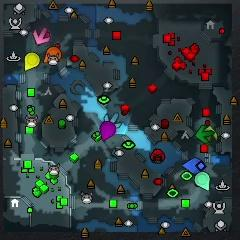p1: (183, 159, 203, 173)
p2: (196, 172, 210, 193)
p3: (100, 121, 116, 141)
p4: (24, 52, 40, 71)
p5: (44, 48, 62, 62)
x1: (33, 27, 50, 45)
x2: (203, 126, 218, 143)
x3: (104, 113, 122, 128)
x4: (195, 125, 213, 143)
